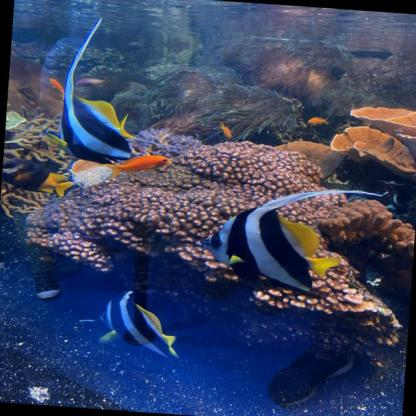fish: (191, 202, 342, 295), (44, 93, 136, 166), (97, 288, 185, 360), (0, 158, 74, 198), (104, 151, 170, 184), (75, 73, 110, 89), (47, 78, 65, 103), (307, 113, 329, 126), (217, 122, 233, 139)
